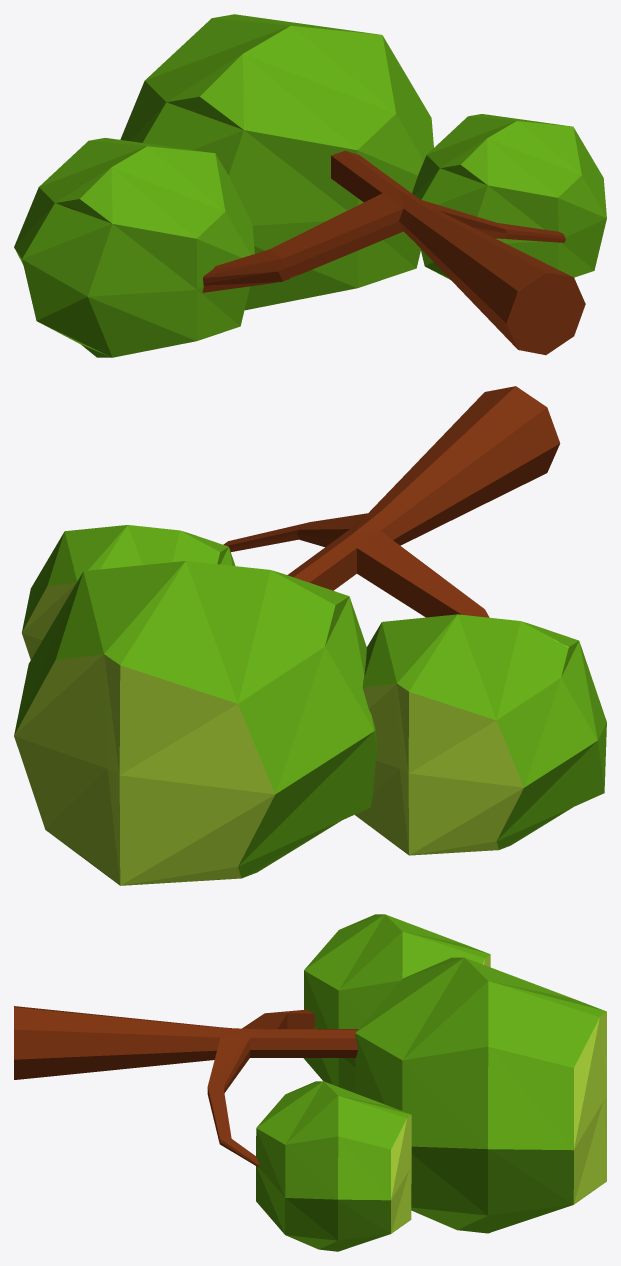
Rendered from tree-02.obj.
The picture shows the model from 3 angles, top to bottom: view 1: azimuth 30°, elevation 25°; view 2: azimuth 150°, elevation 25°; view 3: azimuth 270°, elevation 25°; orthographic projection. The views are drawn at different scales.
Parts seen in each view (by area): view 1: tree-02_Cube.055; view 2: tree-02_Cube.055; view 3: tree-02_Cube.055.
Boxes of the visible parts, <box> form: tree-02_Cube.055: <box>14,14,606,357</box>; tree-02_Cube.055: <box>14,386,606,885</box>; tree-02_Cube.055: <box>14,914,606,1251</box>.
Size of the model in its own units: 8.83 by 4.2 by 9.66.
